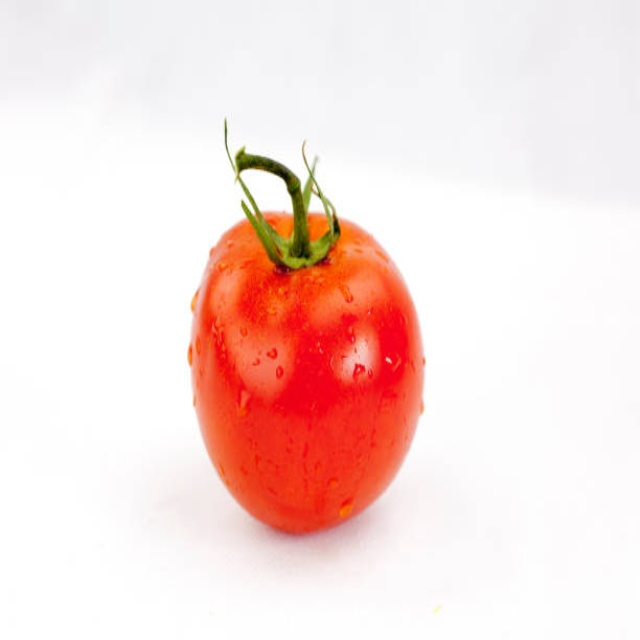tomato: (186, 117, 431, 535)
